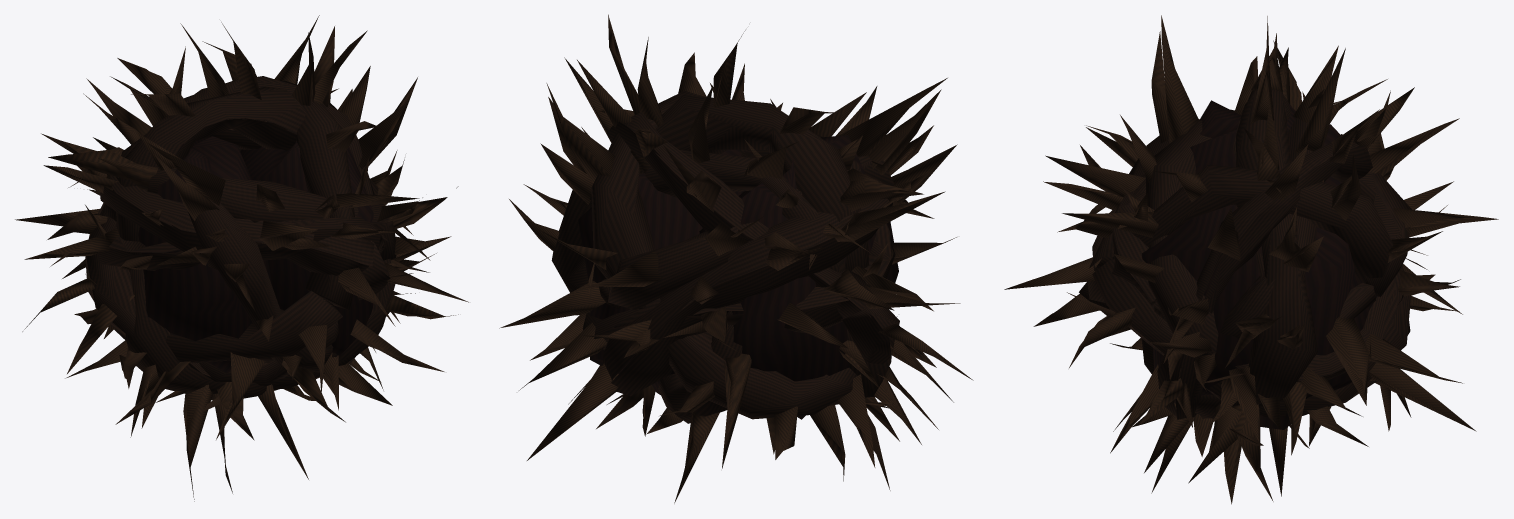
The model's file is Thorn_C_SplitCrown_Detail2.fbx.
3 views of the same model, side by side, from view 1: azimuth 30°, elevation 25°; view 2: azimuth 150°, elevation 25°; view 3: azimuth 270°, elevation 25° (orthographic). The views are drawn at different scales.
Visible parts, largest first — view 1: ThornSurface; view 2: ThornSurface; view 3: ThornSurface.
Part boxes in pixels (bbox=[...]): ThornSurface: bbox=[15, 15, 468, 501]; ThornSurface: bbox=[499, 14, 973, 503]; ThornSurface: bbox=[1004, 15, 1498, 504].
Size of the model in its own units: 267 by 281 by 273.
